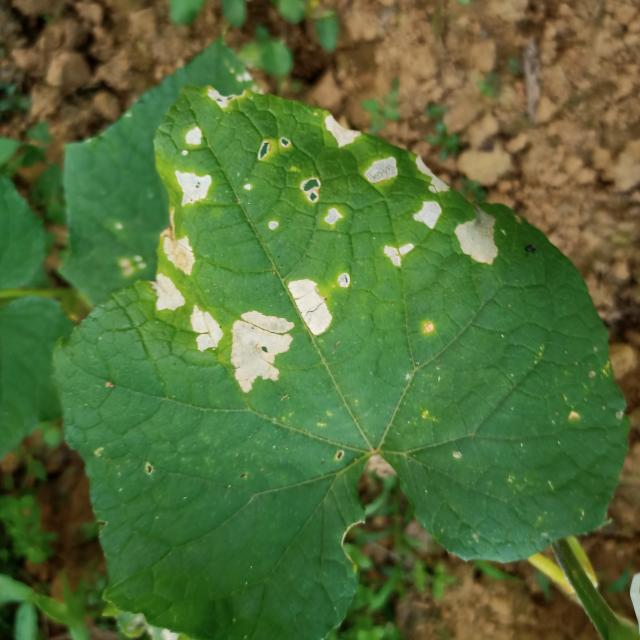disease_cucumber: (232, 277, 332, 391), (152, 234, 197, 312), (175, 122, 215, 205), (410, 160, 450, 233), (301, 171, 343, 226), (457, 213, 498, 263), (189, 306, 222, 352), (364, 150, 398, 186), (323, 116, 361, 147), (381, 239, 415, 268)
